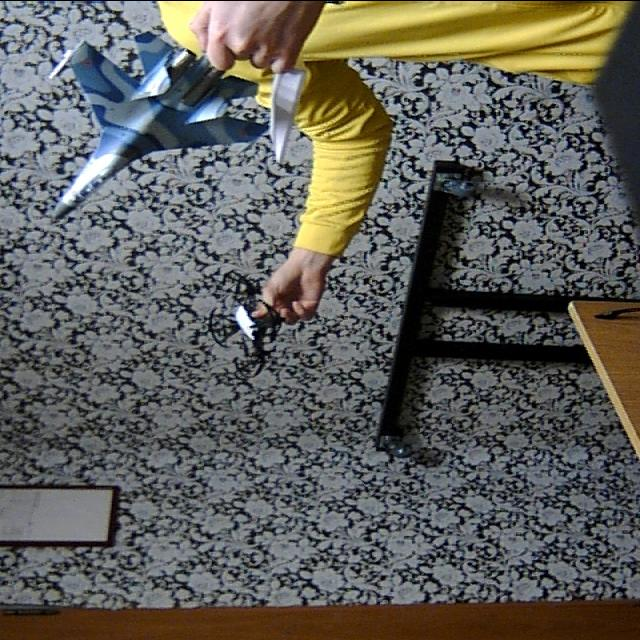drone: (182, 268, 302, 387)
